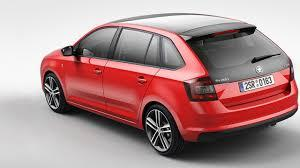skoda: (251, 65, 263, 75)
